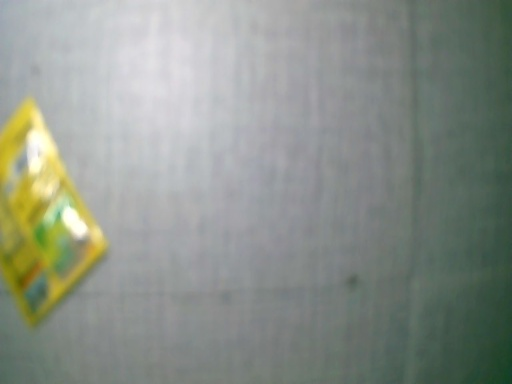plastic: (1, 89, 111, 330)
